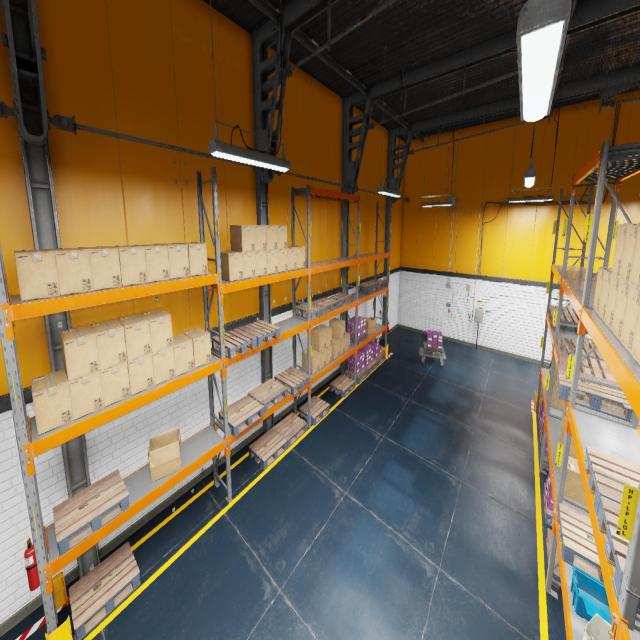box: (31, 369, 73, 435), (14, 249, 60, 301), (60, 325, 100, 381), (52, 248, 93, 295), (90, 319, 127, 370), (148, 428, 181, 482), (68, 371, 104, 420), (116, 313, 152, 361), (84, 246, 122, 290), (112, 245, 147, 286), (141, 308, 173, 352), (563, 456, 588, 512), (100, 362, 130, 407), (621, 285, 640, 354), (136, 244, 170, 282), (619, 223, 639, 284), (183, 328, 211, 368), (159, 243, 190, 279), (128, 353, 154, 395), (612, 279, 629, 342), (180, 242, 208, 276), (173, 332, 194, 377), (611, 224, 628, 278), (593, 266, 612, 314), (152, 346, 175, 385), (605, 274, 619, 331), (629, 223, 640, 290), (598, 270, 612, 322), (220, 251, 243, 281), (230, 225, 255, 252), (563, 412, 576, 458), (632, 303, 640, 365), (550, 379, 564, 411), (302, 348, 319, 374), (310, 327, 326, 352), (287, 246, 305, 268), (316, 324, 332, 348), (242, 251, 255, 279), (329, 318, 345, 339), (254, 225, 266, 251), (255, 251, 267, 276), (266, 250, 278, 274), (266, 225, 277, 250), (332, 336, 344, 356), (278, 248, 288, 272), (277, 225, 287, 249), (287, 247, 297, 270), (561, 402, 566, 440), (366, 317, 376, 334), (332, 337, 339, 359), (558, 431, 562, 469), (559, 442, 563, 474), (326, 345, 332, 365), (320, 349, 326, 369), (345, 332, 350, 351), (554, 362, 558, 379), (548, 368, 551, 390), (549, 360, 551, 369)
pallets: (68, 542, 140, 640), (53, 469, 129, 556), (597, 496, 640, 614), (557, 366, 632, 422), (584, 446, 640, 516), (557, 503, 604, 583), (218, 394, 264, 436), (558, 350, 616, 382), (249, 428, 287, 469), (211, 328, 257, 359), (248, 379, 287, 413), (560, 337, 604, 366), (273, 412, 307, 448), (239, 320, 280, 347), (274, 366, 310, 395), (546, 528, 561, 590), (299, 396, 330, 425), (549, 311, 588, 334), (330, 375, 356, 397), (296, 302, 326, 320), (543, 483, 554, 527), (311, 297, 340, 313), (548, 304, 577, 318), (345, 368, 368, 383), (329, 293, 354, 306), (423, 342, 444, 357), (540, 439, 549, 471), (358, 281, 379, 293), (348, 332, 368, 344), (366, 279, 387, 289), (364, 359, 378, 374), (373, 352, 385, 366), (539, 421, 542, 445), (538, 406, 541, 428)
